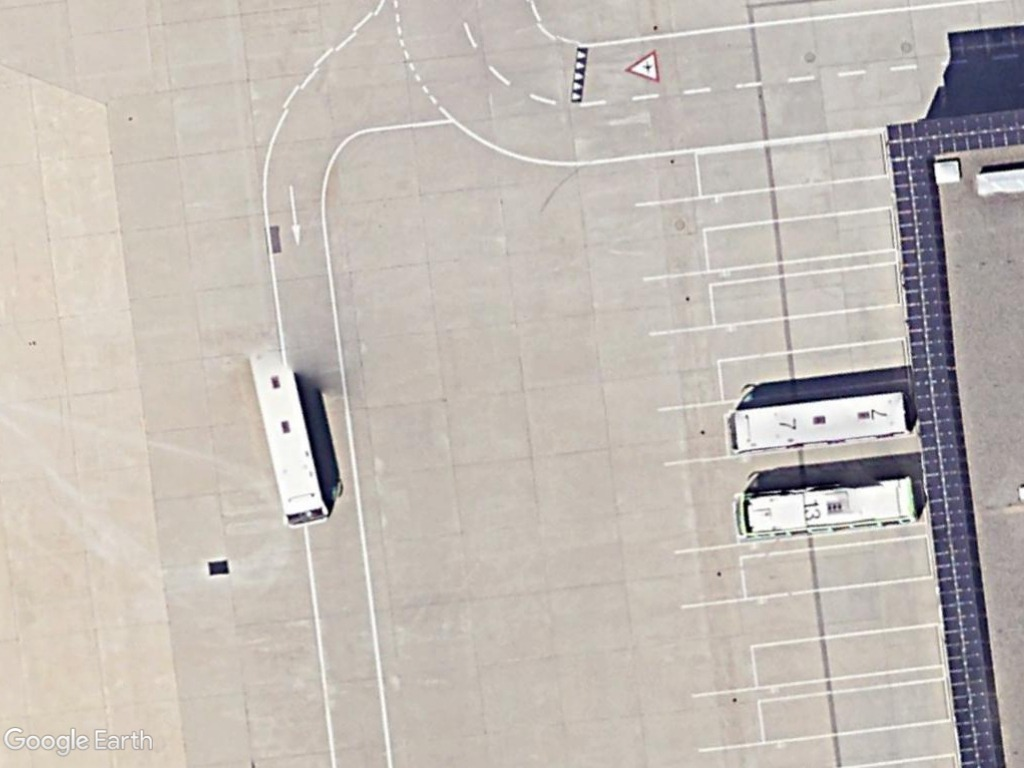bus: (247, 352, 331, 529), (721, 388, 913, 459), (731, 473, 923, 544)
